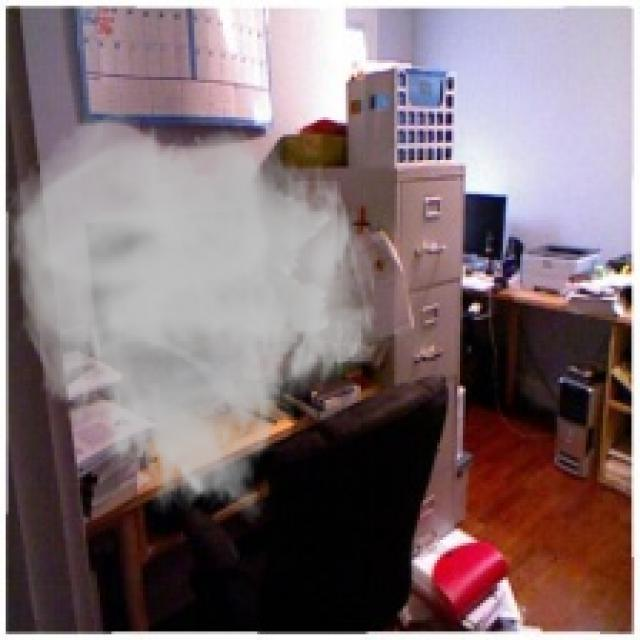Smoke: (3, 108, 380, 526)
